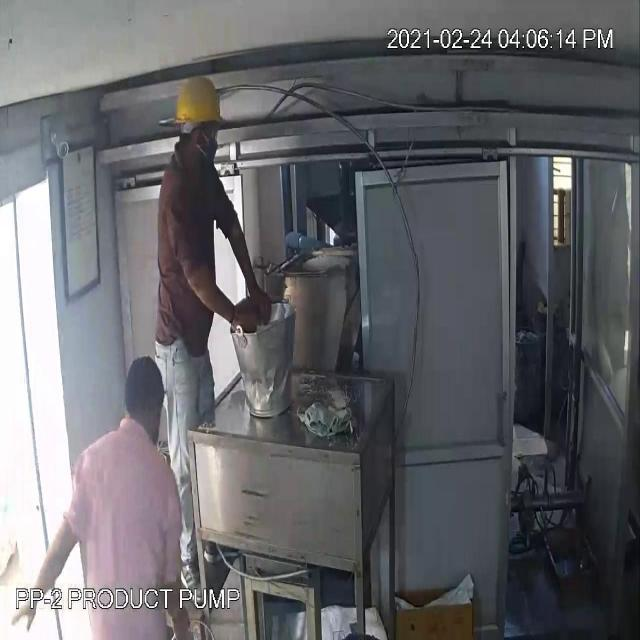hat: (168, 66, 229, 141)
